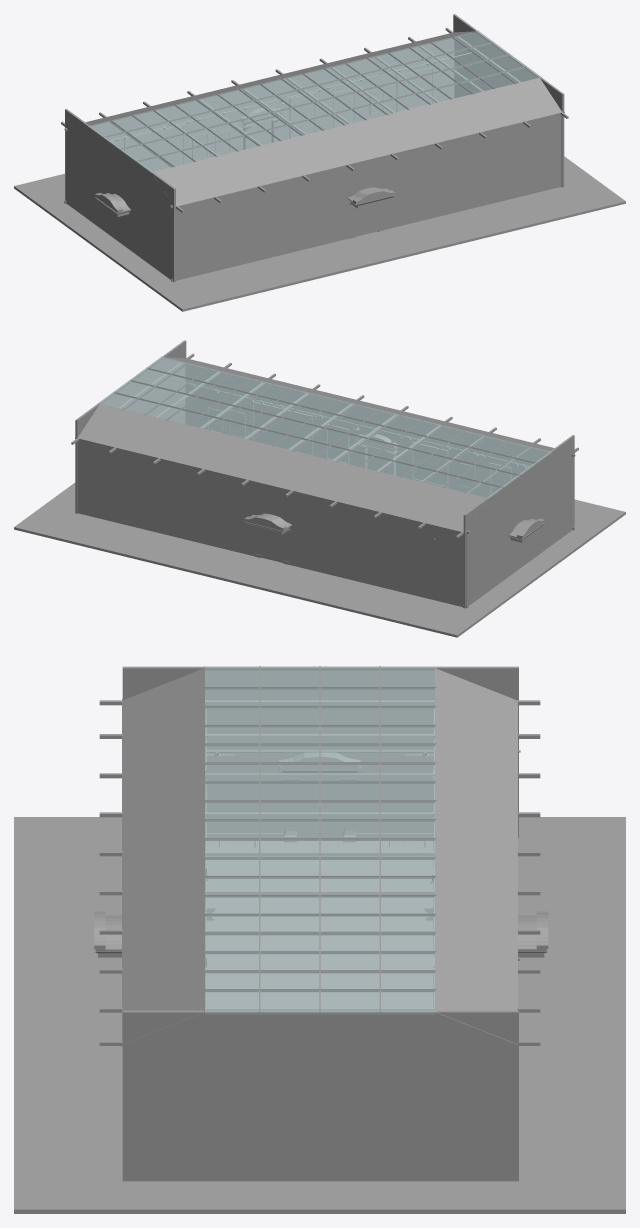
Rendered from (NoTexture) RunwayGallery.fbx.
3 views of the same model, one above another, from view 1: azimuth 30°, elevation 25°; view 2: azimuth 150°, elevation 25°; view 3: azimuth 270°, elevation 25° (orthographic). The views are drawn at different scales.
Visible parts, largest first — view 1: pCube48, pCube100, pCube12, pCube22, pCube101, pCube19, pCube30, pCube28, pCube75, pCube74, pCube76, pCube26 (+3 smaller); view 2: pCube48, pCube101, pCube12, pCube100, pCube22, pCube19, pCube37, pCube42, pCube74, pCube76, pCube75, pCube36 (+4 smaller); view 3: pCube48, pCube12, pCube19, pCube22, pPlane3, pCube107, pCube110, pCube111, pCube109, pCube112, pCube108, pCube34 (+24 smaller).
Part boxes in pixels (x1,y1,x2,y2): pCube48: (65, 30, 564, 208); pCube100: (172, 114, 561, 280); pCube12: (14, 156, 625, 311); pCube22: (65, 109, 175, 282); pCube101: (65, 38, 454, 200); pCube19: (453, 14, 564, 187); pCube30: (124, 124, 185, 171); pCube28: (396, 67, 433, 112); pCube75: (136, 66, 526, 162); pCube74: (119, 53, 509, 150); pCube76: (103, 41, 492, 138); pCube26: (289, 92, 316, 138); pCube48: (75, 356, 574, 533); pCube101: (77, 440, 466, 606); pCube12: (14, 482, 625, 637); pCube100: (185, 364, 574, 526); pCube22: (463, 435, 574, 608); pCube19: (75, 340, 186, 513); pCube37: (252, 401, 313, 455); pCube42: (411, 441, 448, 488); pCube74: (130, 379, 520, 476); pCube76: (113, 392, 503, 488); pCube75: (146, 367, 536, 463); pCube36: (325, 424, 349, 463); pCube48: (122, 666, 517, 1046); pCube12: (14, 817, 625, 1213); pCube19: (122, 1010, 518, 1181); pCube22: (122, 666, 518, 837); pPlane3: (295, 778, 344, 837); pCube107: (99, 700, 540, 705); pCube110: (99, 812, 540, 817); pCube111: (99, 851, 540, 856); pCube109: (99, 773, 540, 778); pCube112: (99, 890, 540, 895); pCube108: (99, 734, 540, 738); pCube34: (405, 754, 433, 818).
Size of the model in its own units: 89.55 by 21.23 by 58.99.
